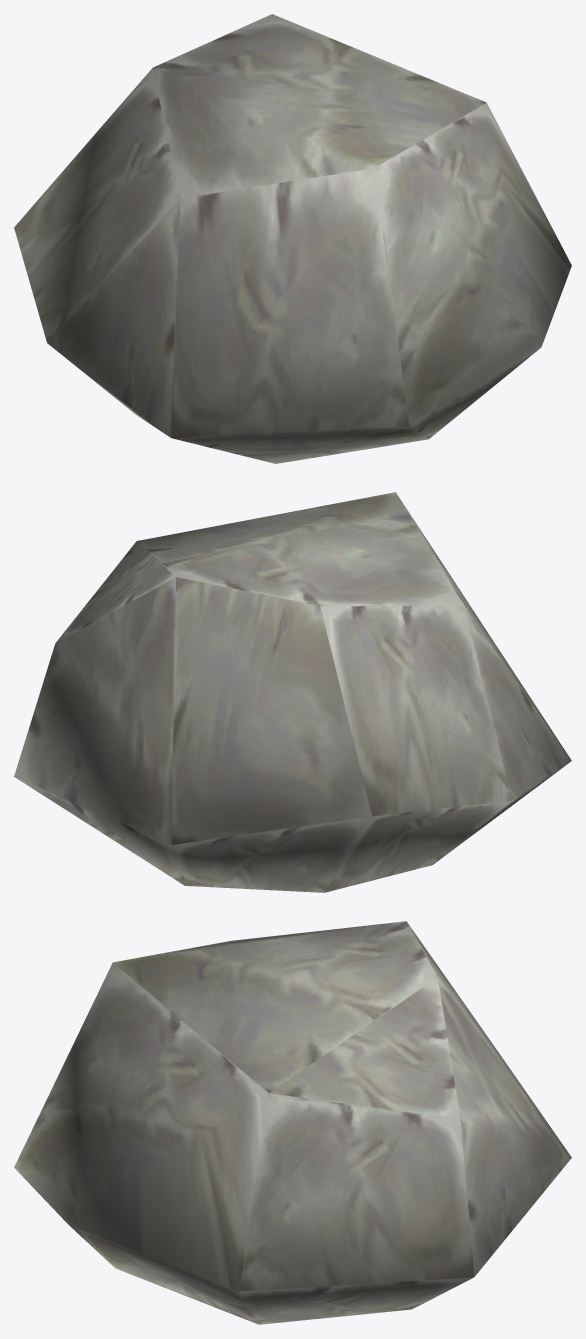
The model's file is rock_small.obj.
3 views of the same model, one above another, from view 1: azimuth 30°, elevation 25°; view 2: azimuth 150°, elevation 25°; view 3: azimuth 270°, elevation 25° (orthographic). The views are drawn at different scales.
Visible parts, largest first — view 1: rock_small; view 2: rock_small; view 3: rock_small.
Boxes of the visible parts, x1,y1,x2,y2 form: rock_small: (14,14,571,463); rock_small: (14,492,571,892); rock_small: (14,921,571,1324).
Bounding box in the file's own units: 59.02 × 35 × 59.93.
1 material, 1 textured.
